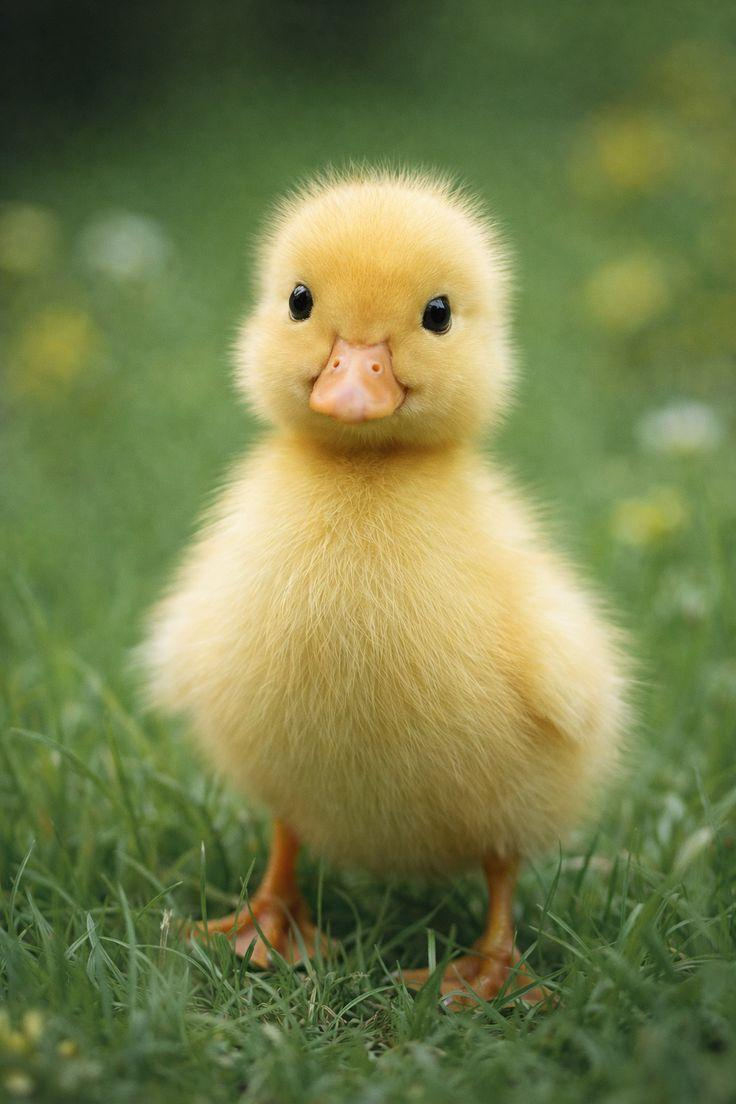duckling: (147, 173, 624, 998)
